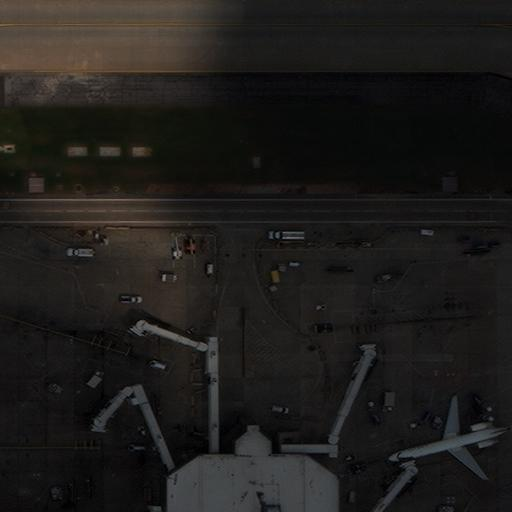Medium Civil Transport: (385, 399, 511, 480)
